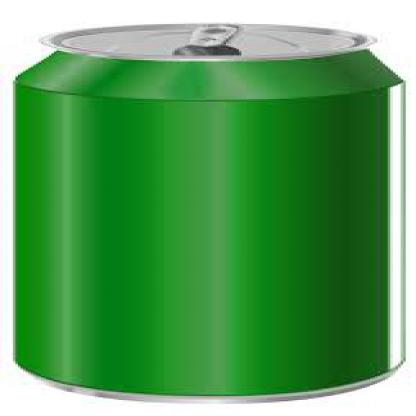METAL: (13, 21, 400, 396)
